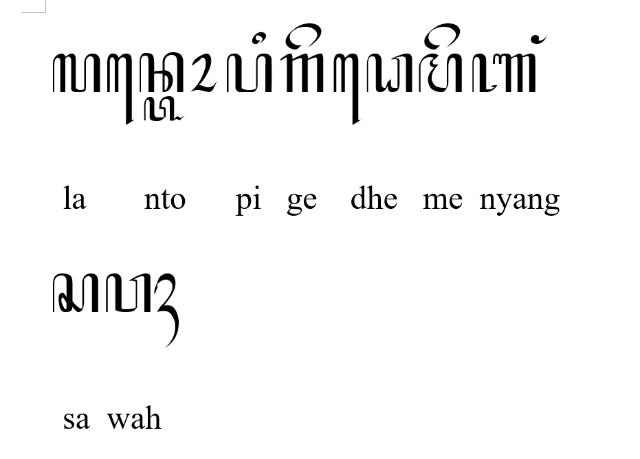_h1: (153, 272, 179, 350)
_t: (143, 96, 184, 122)
dh: (366, 54, 414, 92)
e: (423, 22, 461, 52), (284, 22, 322, 50)
e1: (332, 52, 362, 126), (106, 52, 134, 126)
g: (280, 53, 324, 93)
i: (252, 32, 266, 44)
l: (52, 53, 102, 93)
m: (418, 52, 462, 94)
n: (139, 52, 185, 94)
ng: (530, 34, 548, 44)
ny1: (471, 52, 537, 94)
o: (191, 53, 217, 93)
p: (225, 54, 272, 94)
s: (51, 273, 99, 313)
w: (105, 273, 151, 313)
